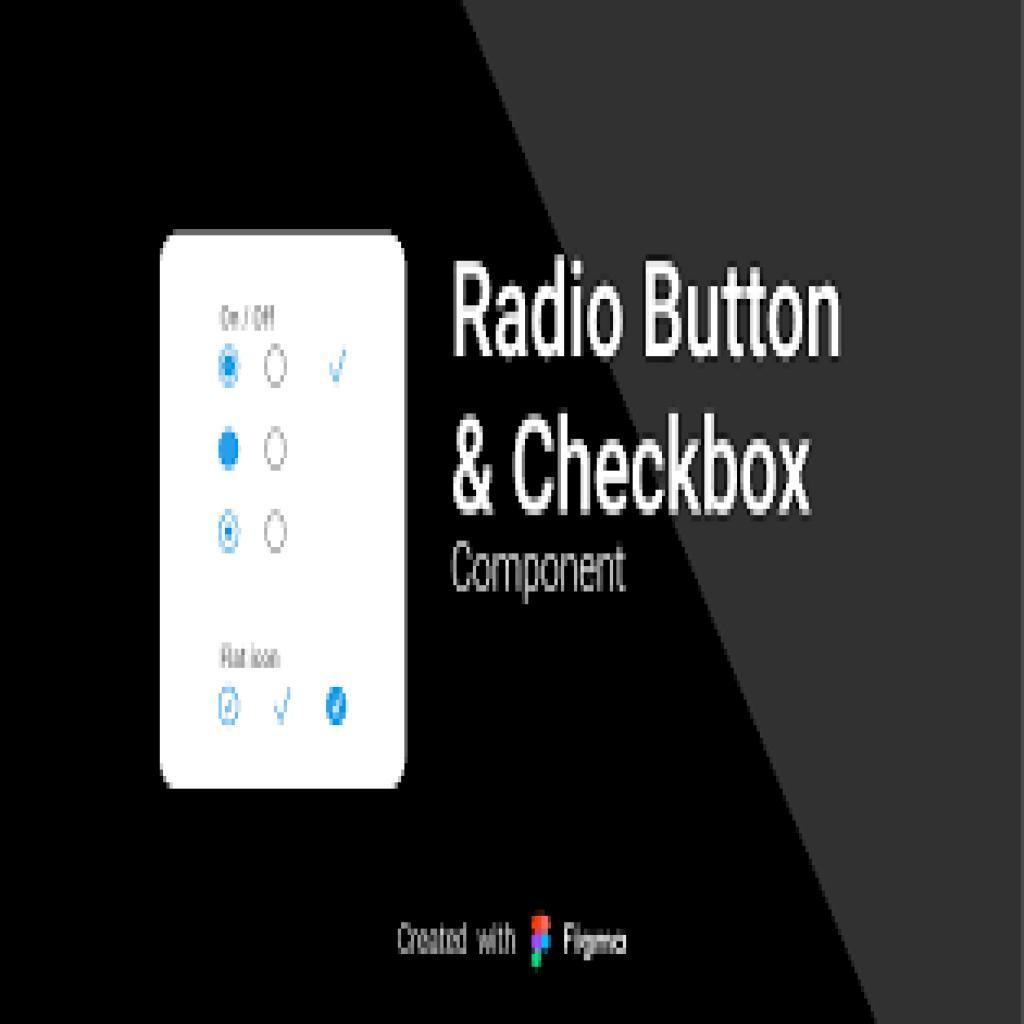radio: (261, 332, 290, 397), (261, 502, 291, 564), (213, 504, 244, 560), (216, 339, 245, 398), (265, 419, 290, 482), (217, 424, 243, 481)
